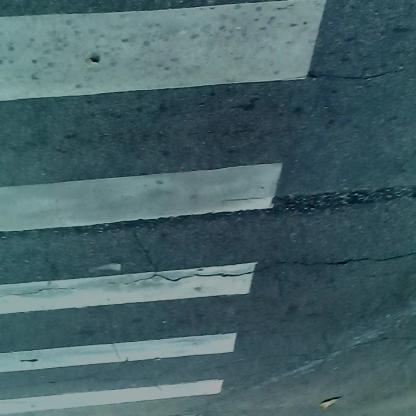crosswalk: (1, 11, 328, 414)
